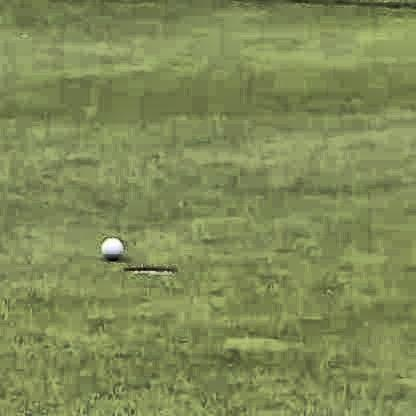golfball: (98, 235, 122, 259)
